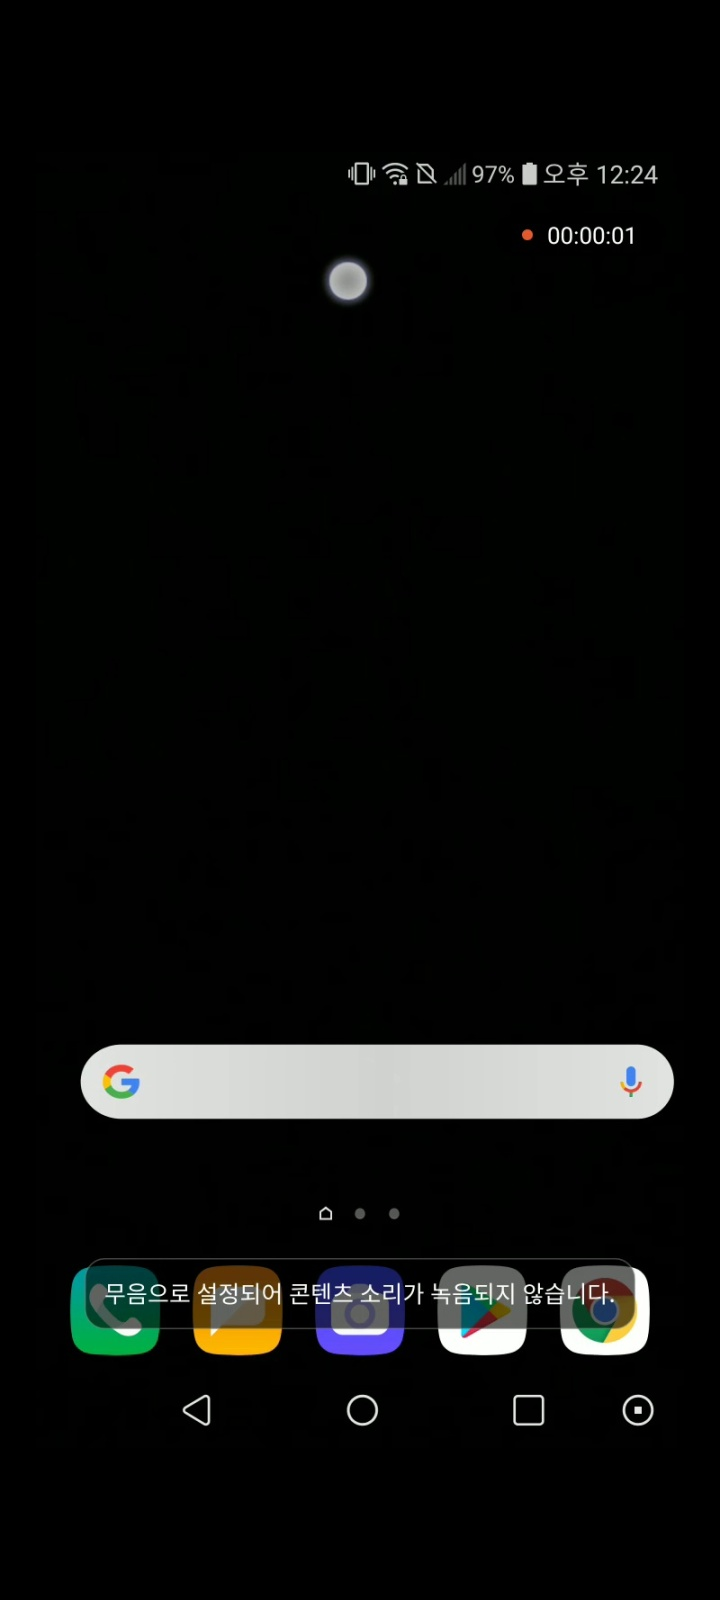Cursor: (326, 259, 371, 304)
